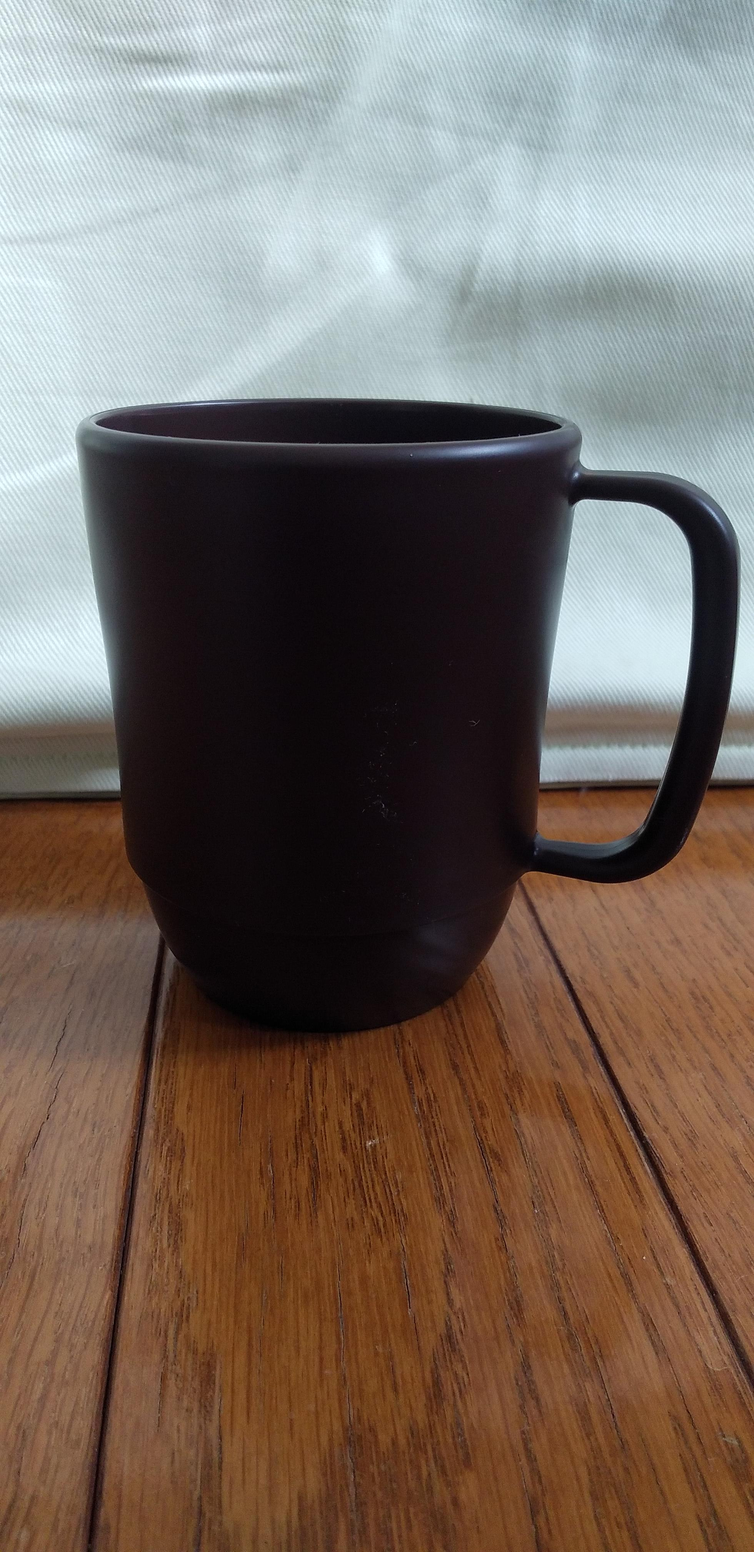mug-real100-3d100: (77, 400, 739, 1032)
